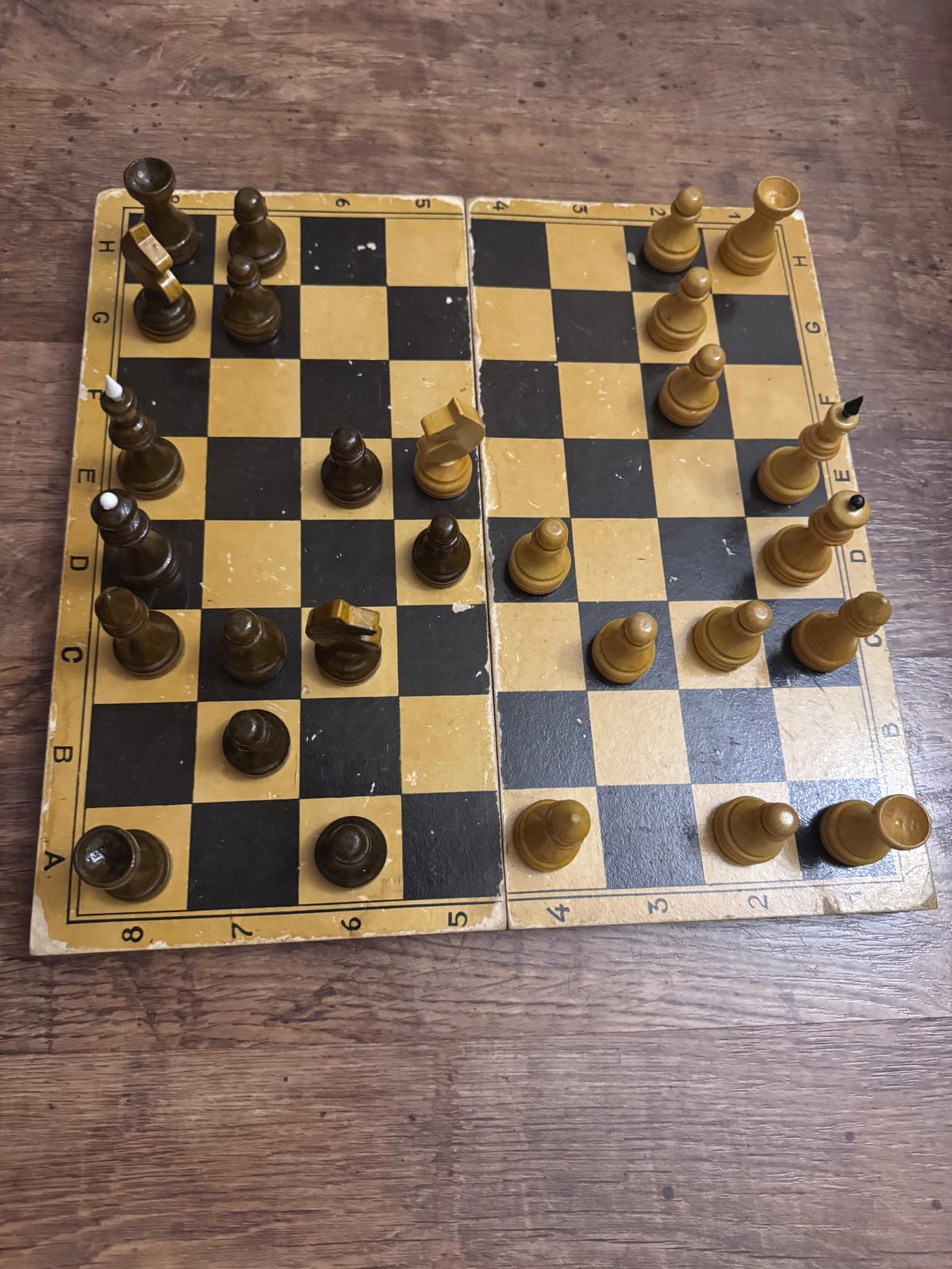Chess-Board: (77, 213, 896, 916)
